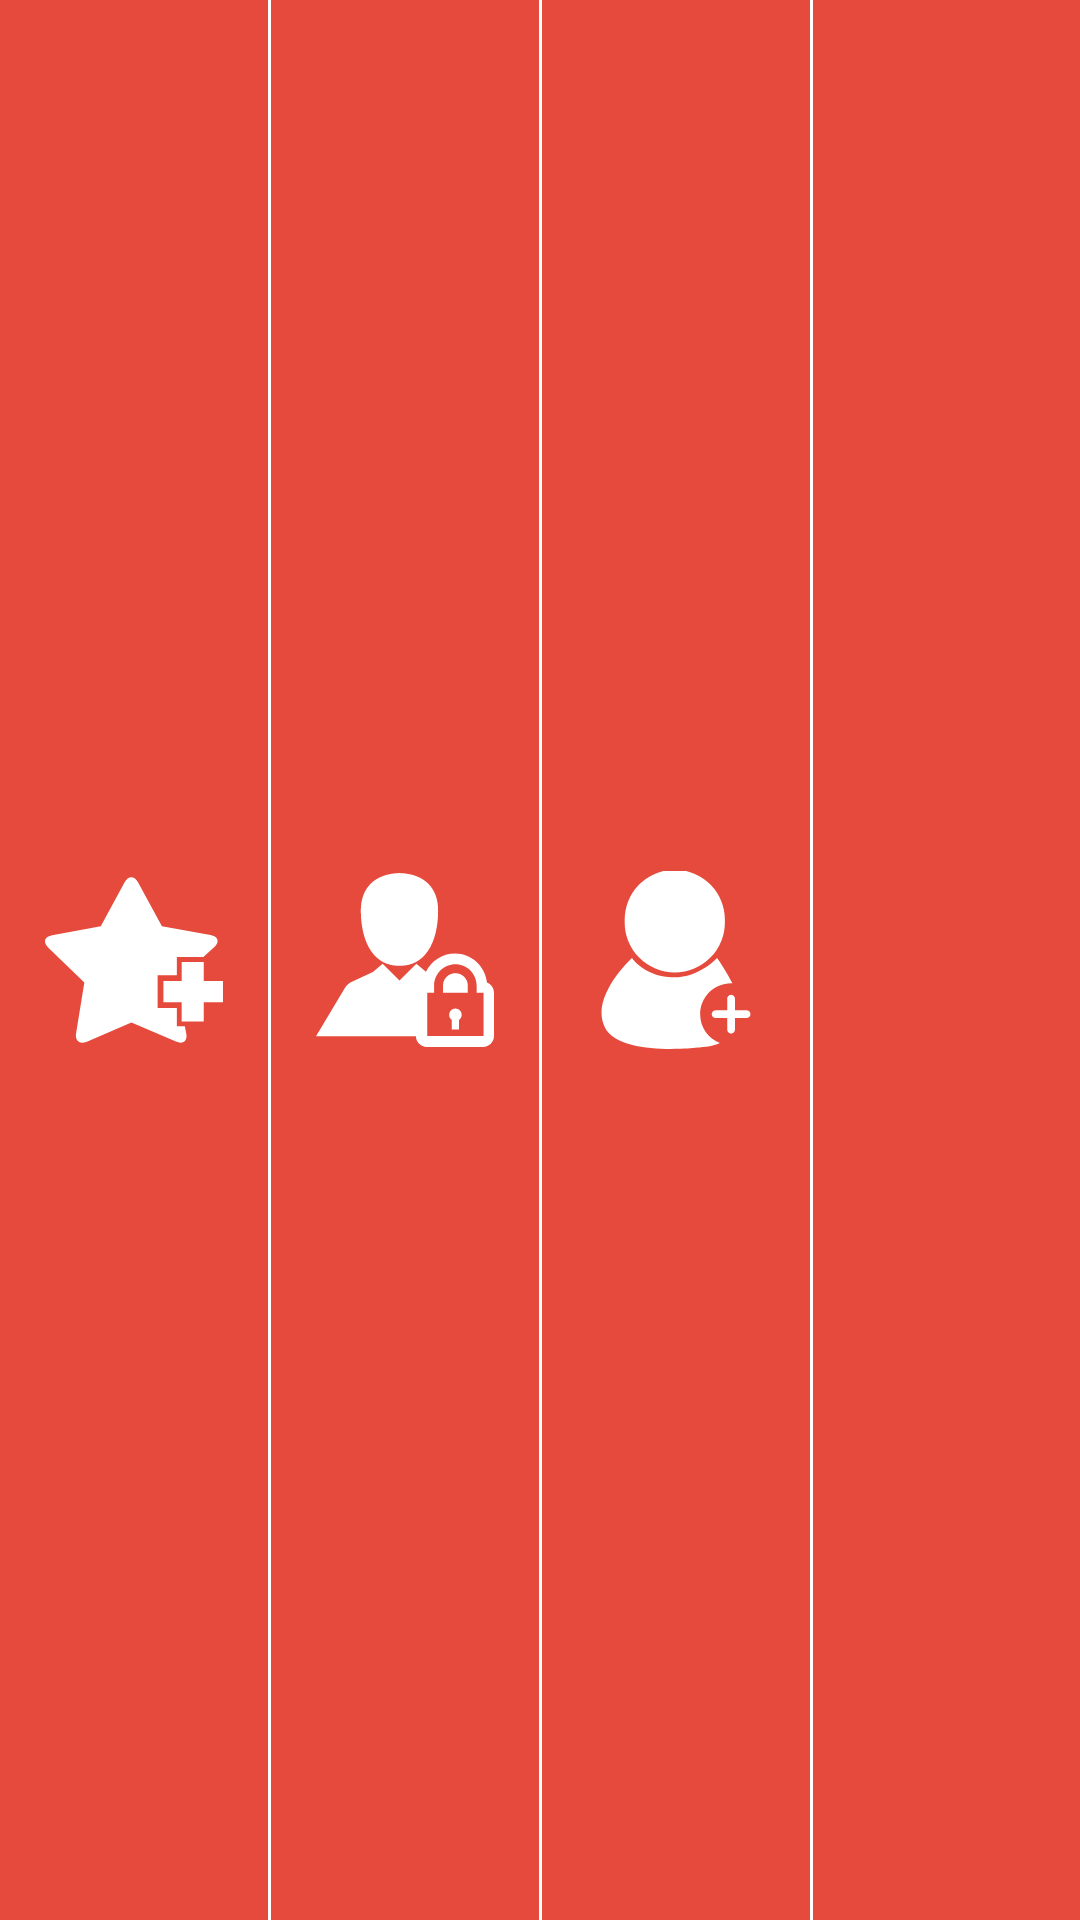

Screen size 1080x1920. Icon name, then its box in pixels as Rect(x1, y1, x2, y2):
add contact: Rect(601, 871, 751, 1049)
add star interface symbol: Rect(45, 877, 223, 1043)
lock user symbol: Rect(316, 873, 494, 1047)
